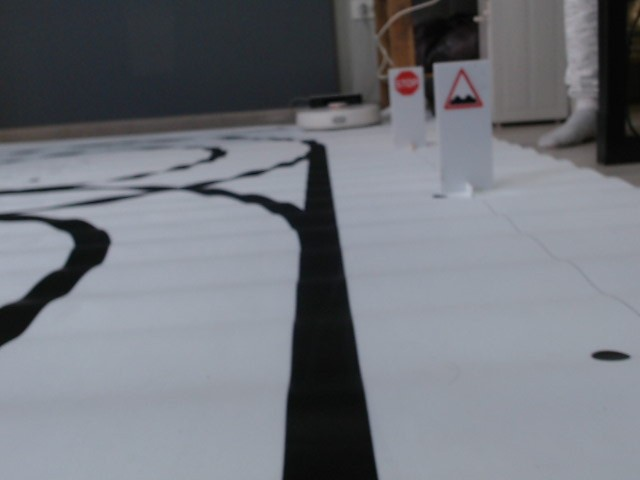Nerov: (444, 68, 483, 110)
